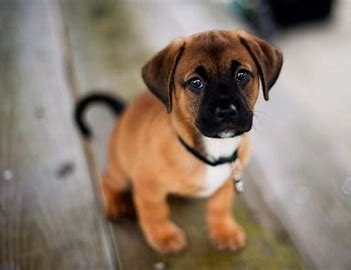dog: (65, 20, 283, 251)
